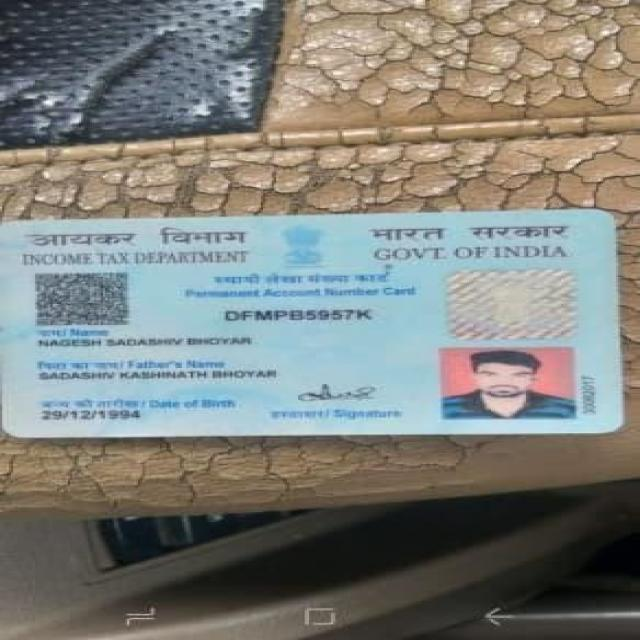pan_card: (0, 210, 614, 434)
